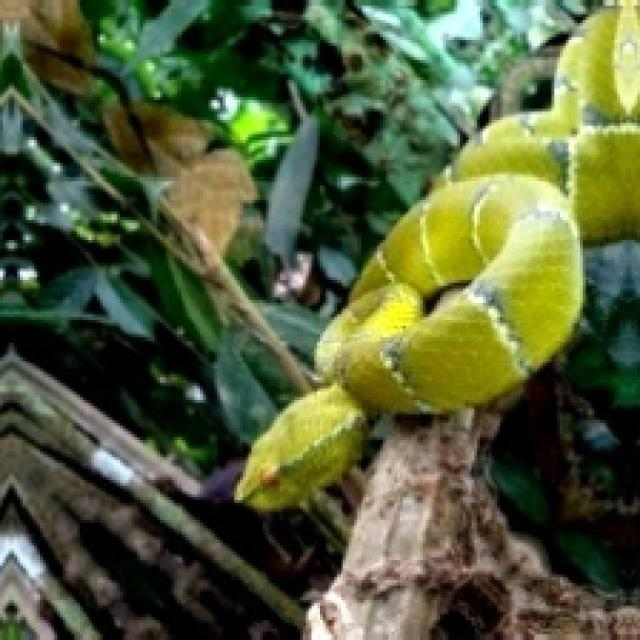north ph temple pitviper: (234, 0, 637, 509)
